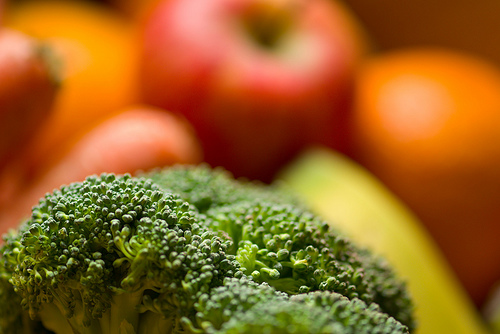broccoli: (3, 162, 411, 333)
